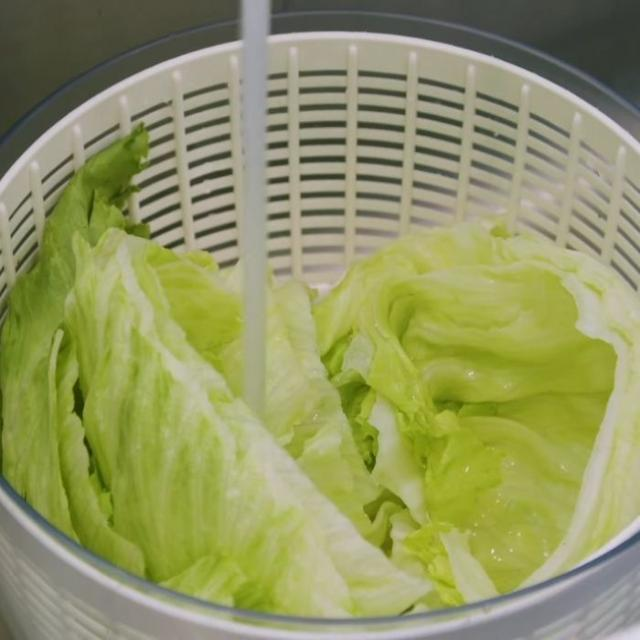lettuce: (315, 225, 639, 603)
